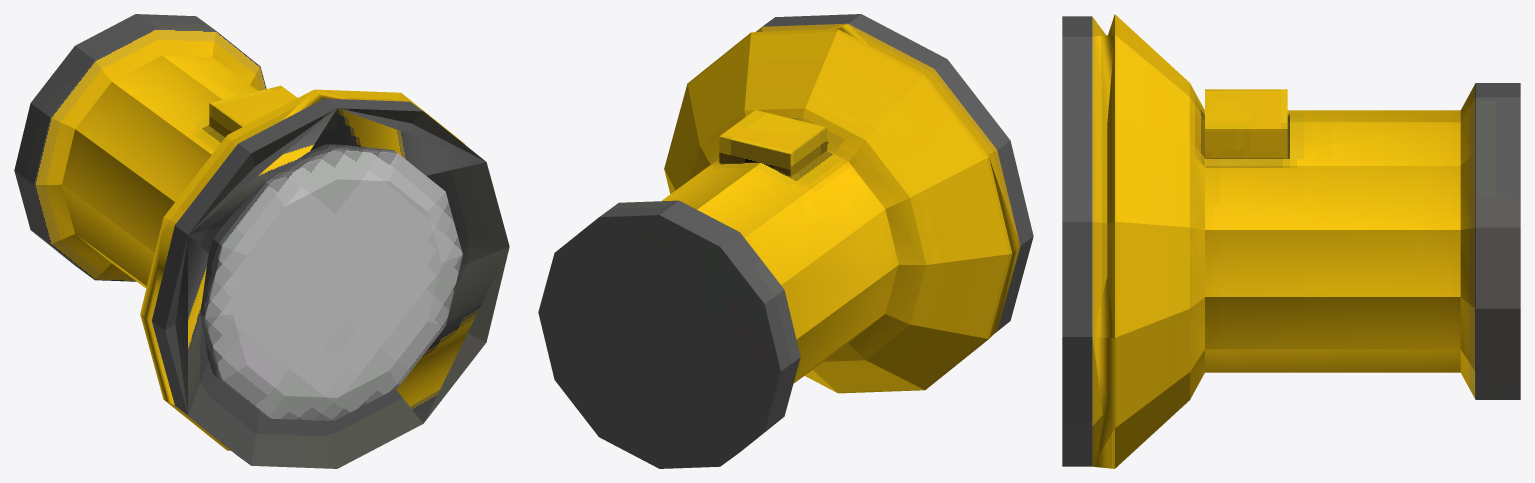
File: item_flashlight_mega.glb
The picture shows the model from 3 angles, left to right: view 1: azimuth 30°, elevation 25°; view 2: azimuth 150°, elevation 25°; view 3: azimuth 270°, elevation 25°; orthographic projection. The views are drawn at different scales.
Visible parts, largest first — view 1: Flashlight_submesh_0, Flashlight_submesh_1; view 2: Flashlight_submesh_0; view 3: Flashlight_submesh_0.
Part boxes in pixels (x1,y1,x2,y2): Flashlight_submesh_0: (14,14,509,468); Flashlight_submesh_1: (200,144,462,420); Flashlight_submesh_0: (538,14,1033,468); Flashlight_submesh_0: (1062,14,1520,468).
Bounding box in the file's own units: 0.3646 × 0.3646 × 0.366.
Materials: 2 (2 with a texture image).
